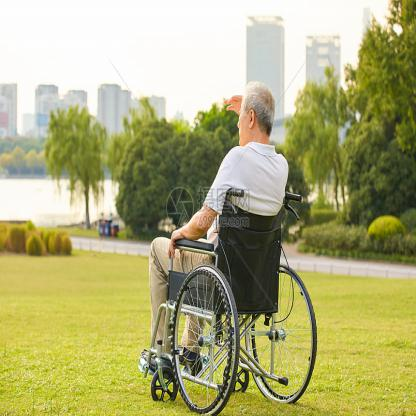wheelchair: (137, 81, 321, 415)
